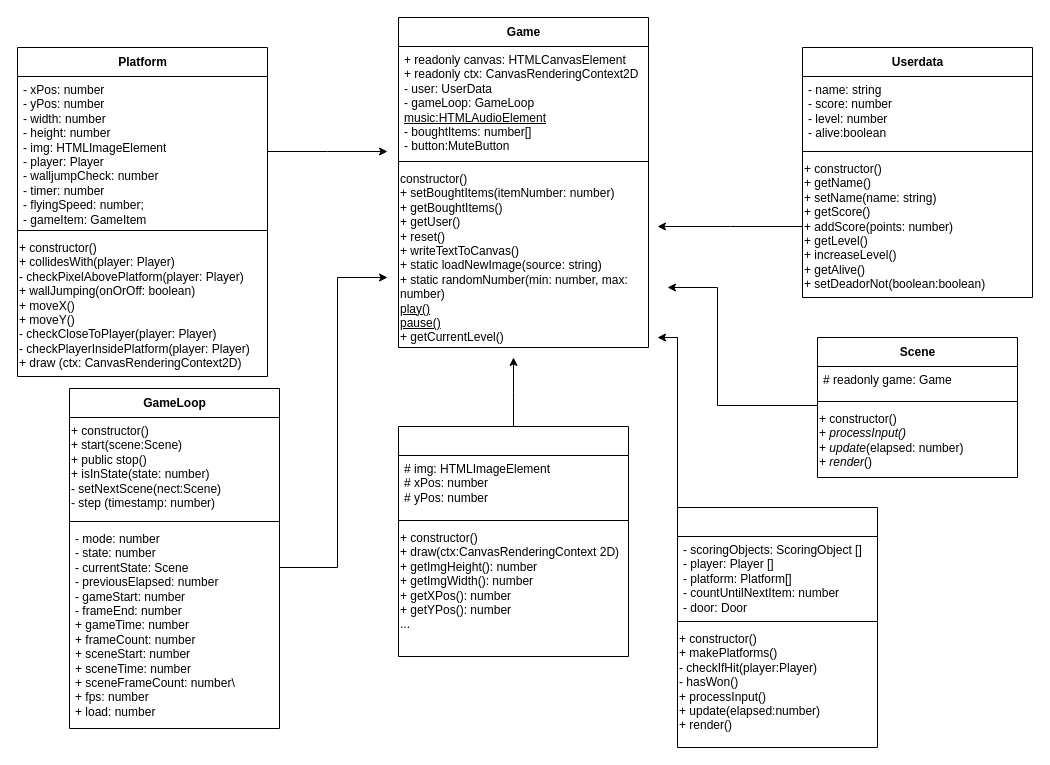
Some shapes in this 1050 by 765 pixel diagram are drawn without their labels. Each missing label, with the box of its shape:
GameItem: (398, 426, 628, 656)
Level: (676, 506, 878, 748)
